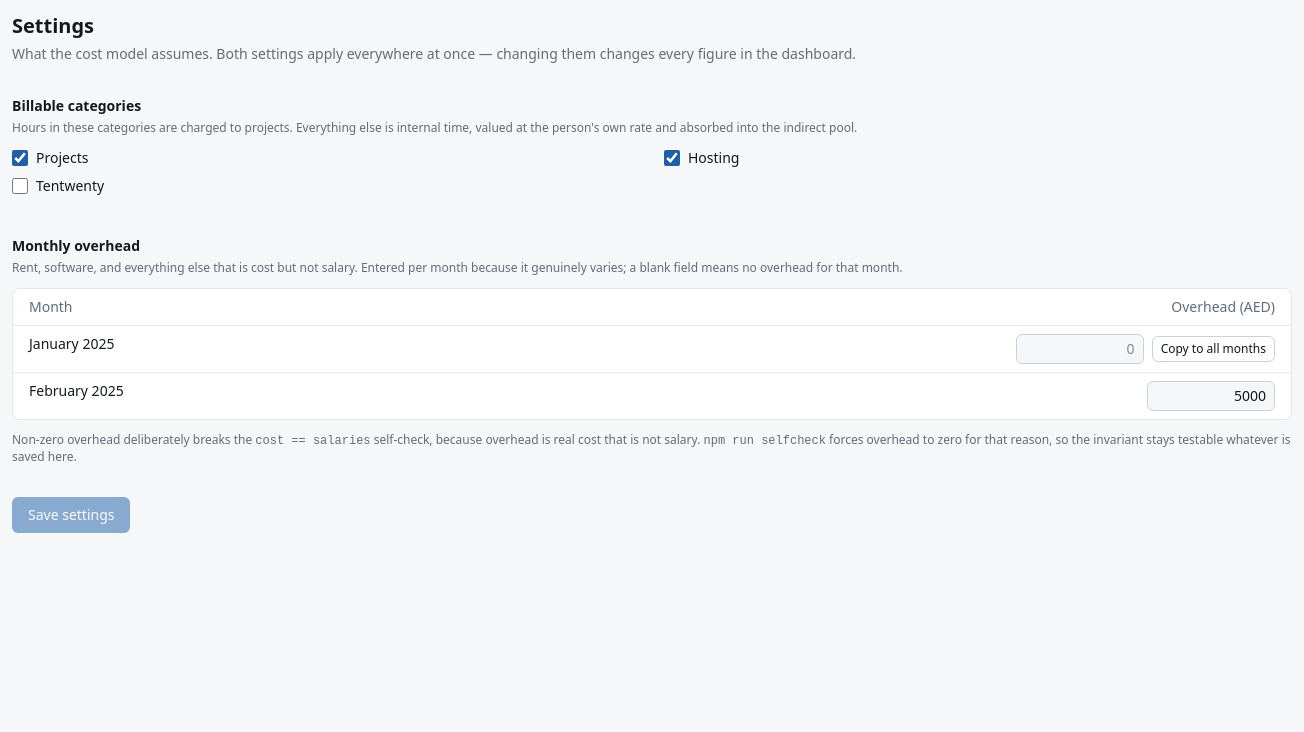
saving › leaves Save disabled until something actually changes
Check: the button "Save settings" is disabled, box [12,497,130,533]
What coordinates should you click on to do the following:
click the checkbox labelled "Tentwenty"
I would click on:
 (20, 186)
Its box is [12,178,28,194].
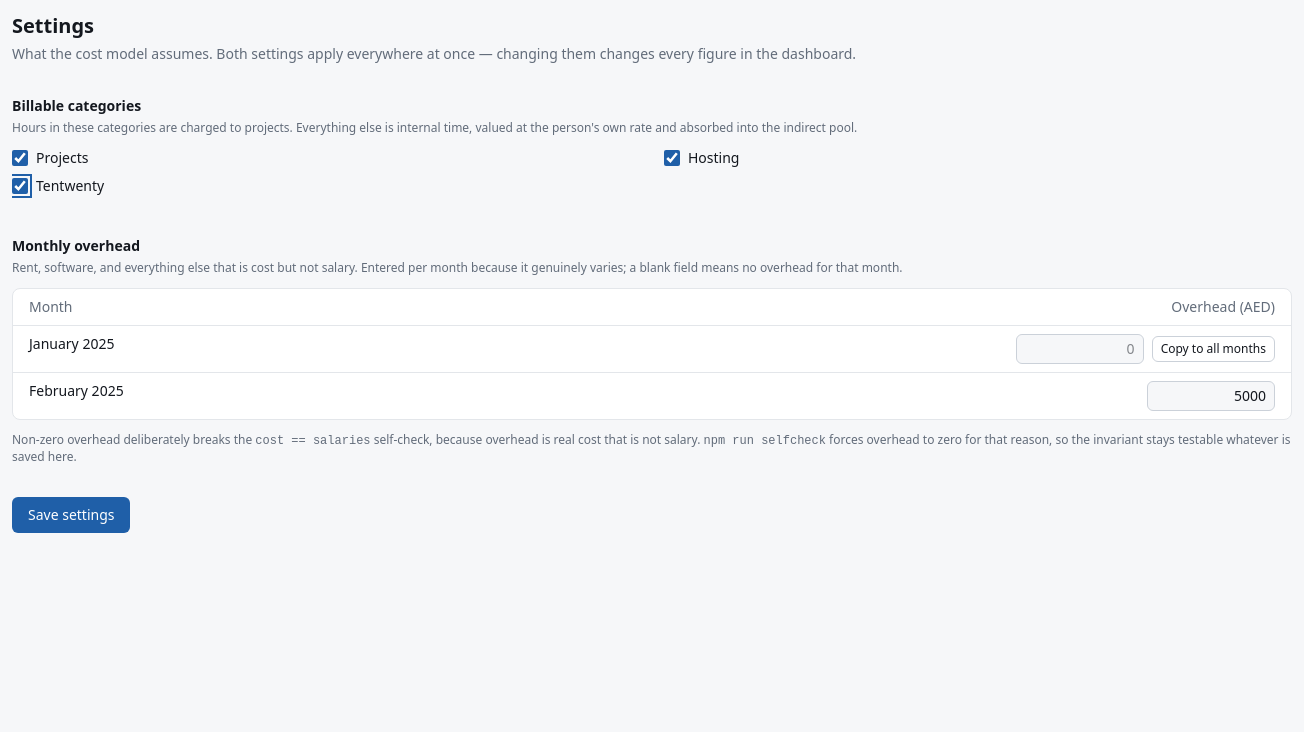
Check: the button "Save settings" is enabled, box [12,497,130,533]
Note: Undoing the change is not a change.
What coordinates should you click on to do the following:
click the checkbox labelled "Tentwenty"
I would click on:
 (20, 186)
Its box is [12,178,28,194].
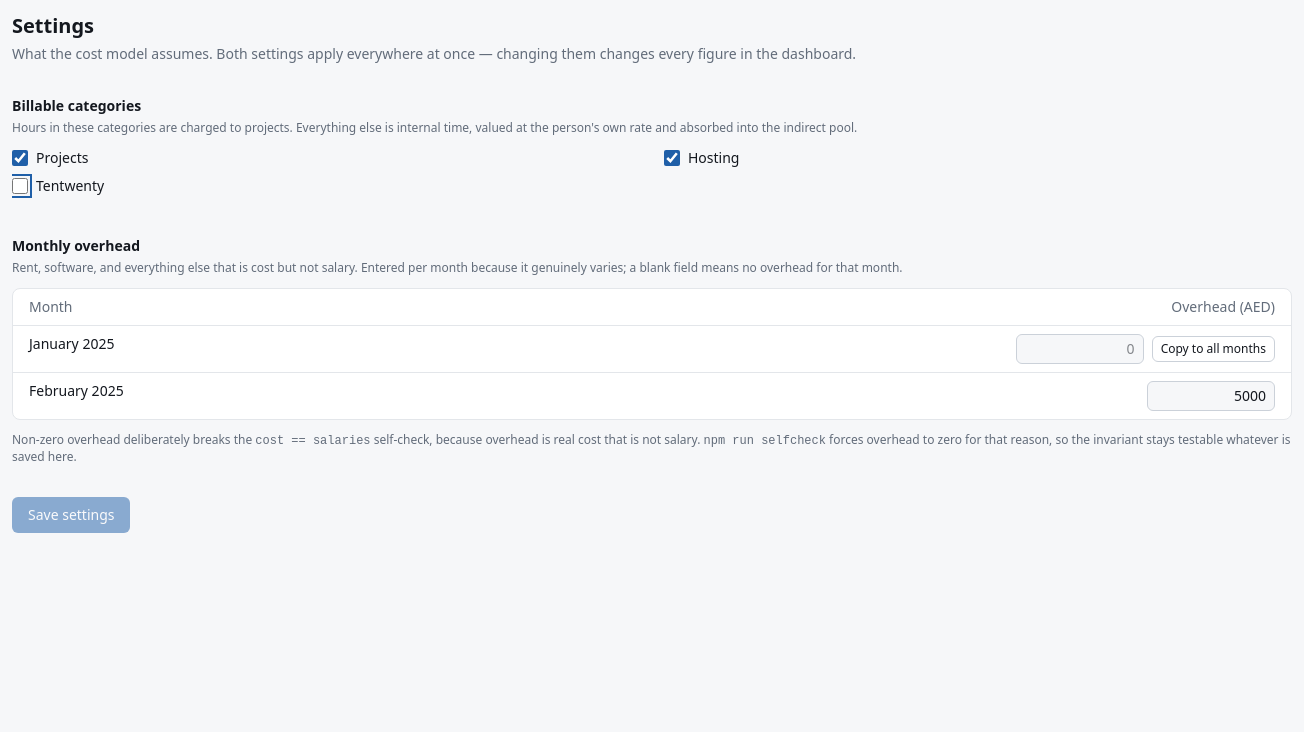
Check: the button "Save settings" is disabled, box [12,497,130,533]
